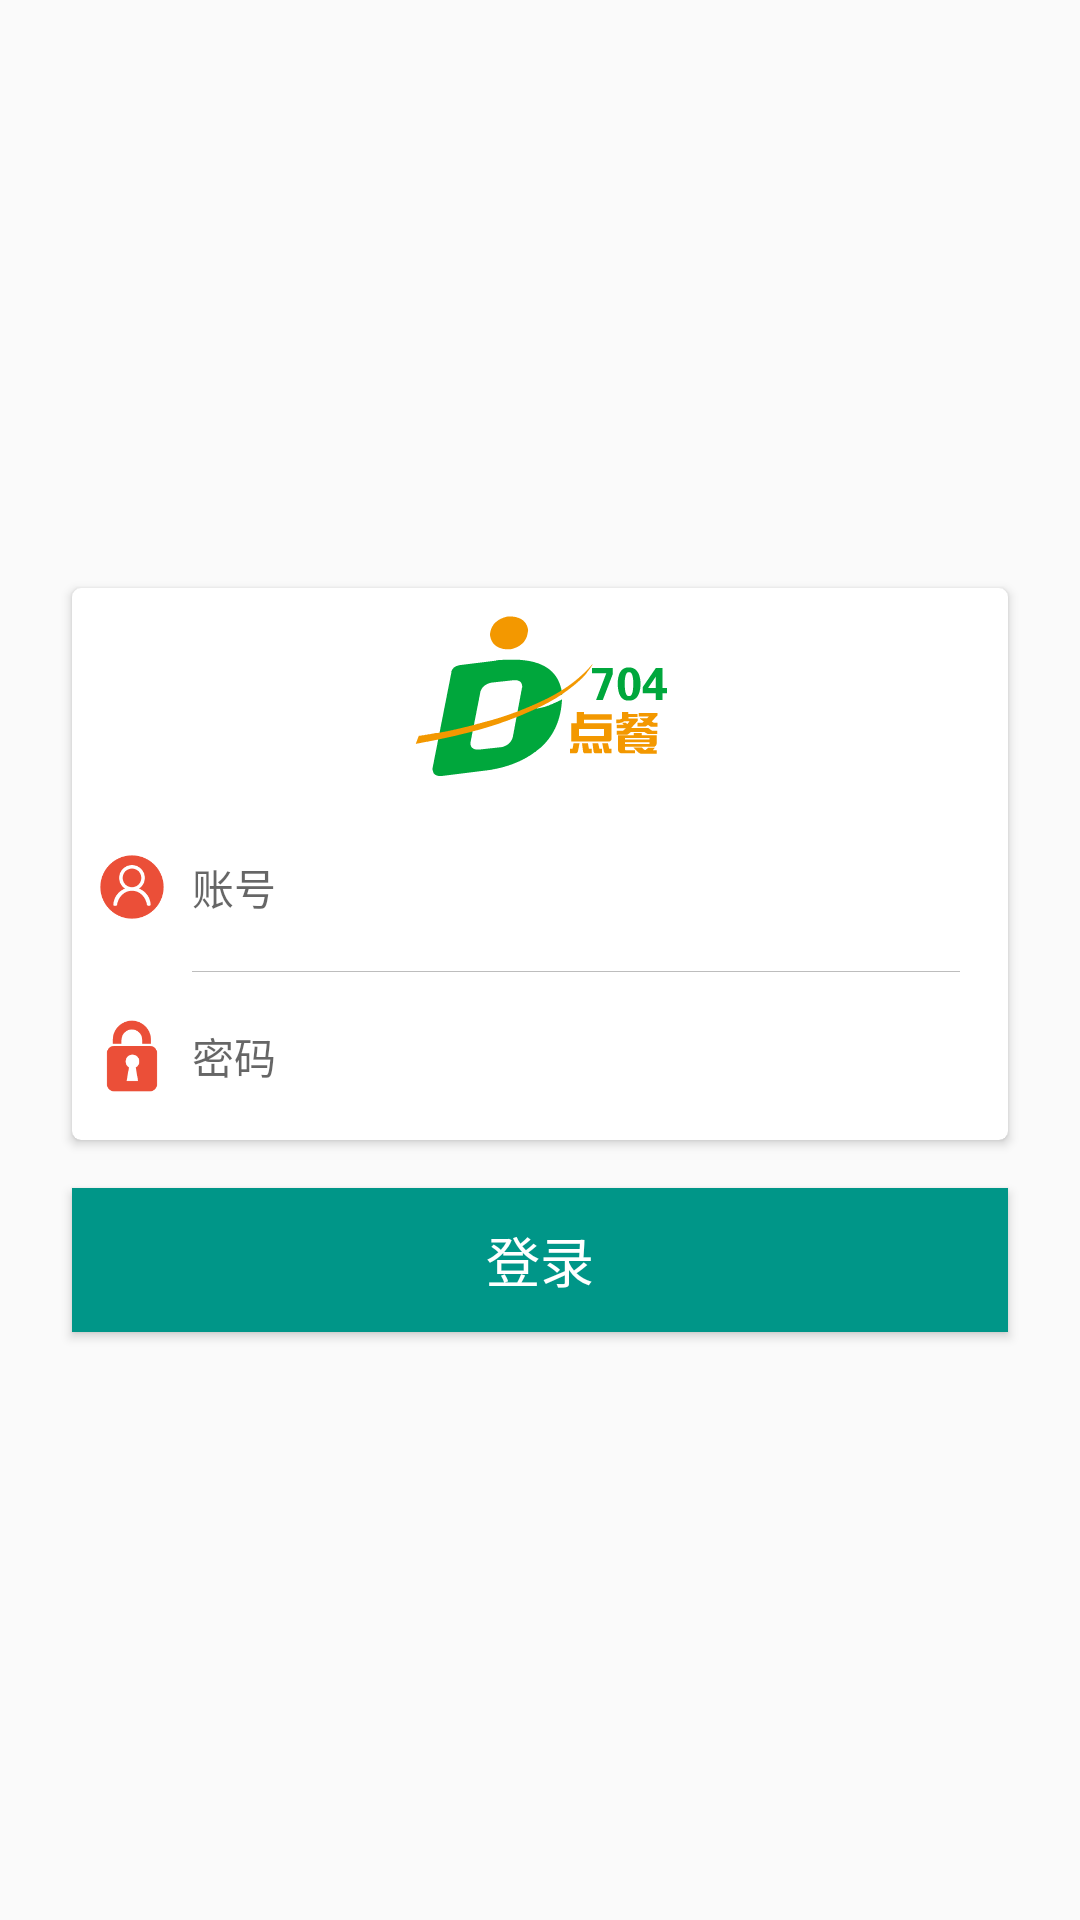

Named icons in this screenshot (1080×1920) and their centers, point (x, y):
login user: point (132, 887)
